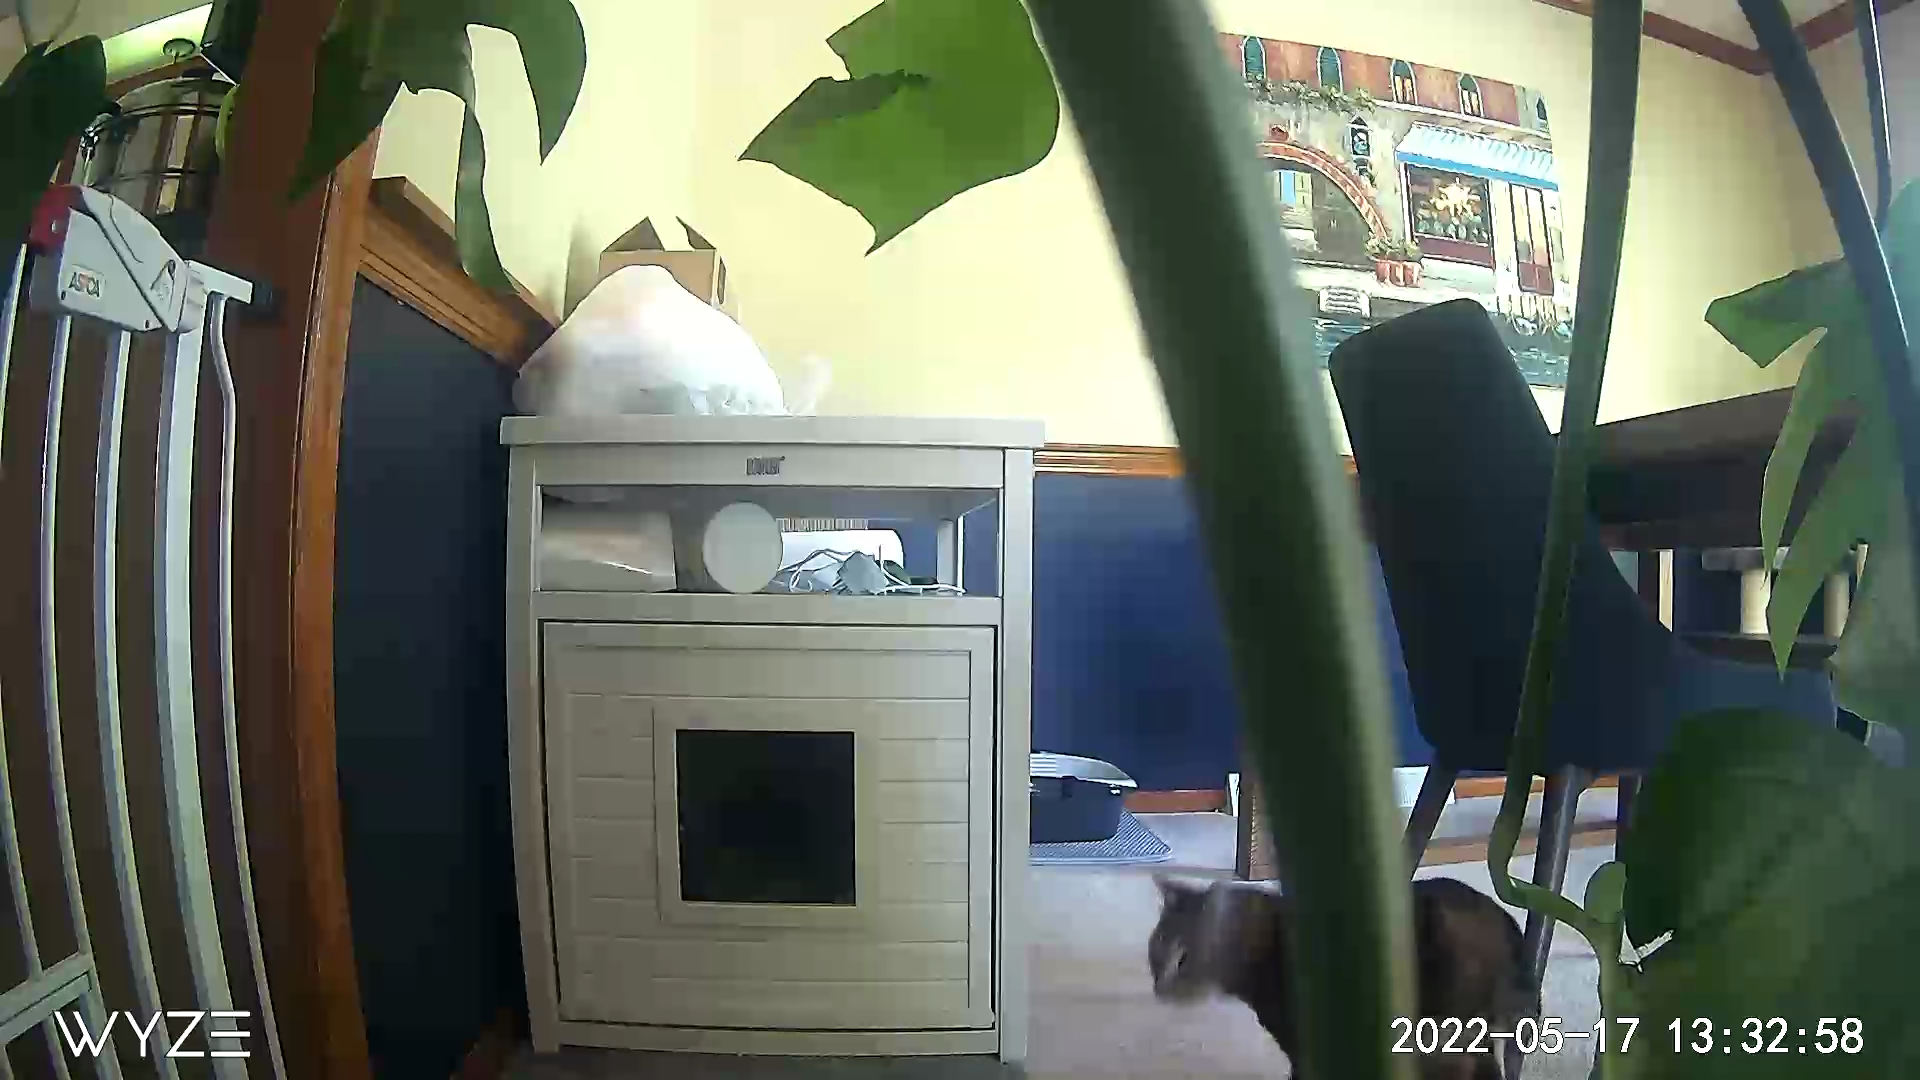sparky: (1134, 872, 1294, 1030)
